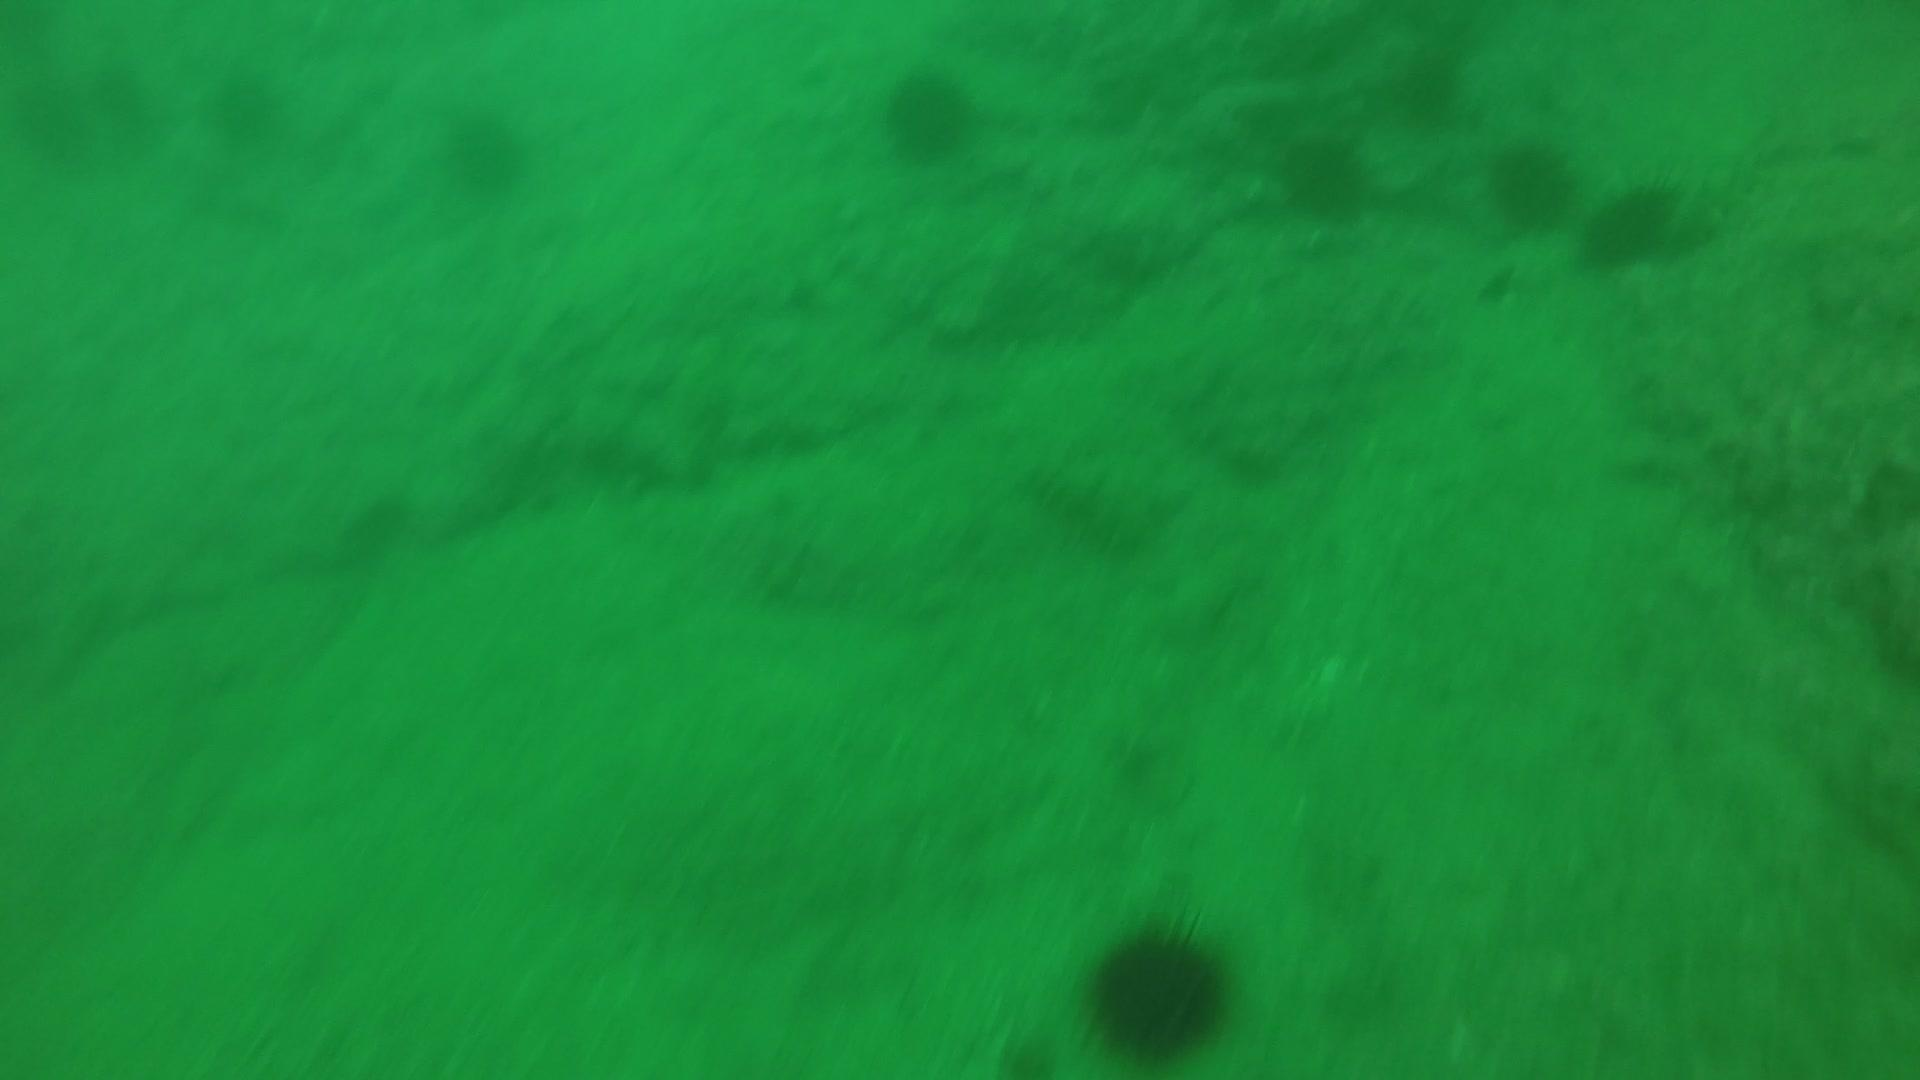echinus: (1077, 910, 1241, 1065), (1575, 171, 1693, 276), (1270, 125, 1375, 225), (877, 65, 981, 165), (1480, 132, 1580, 233), (436, 100, 534, 196), (200, 61, 291, 148), (1385, 44, 1472, 128)
